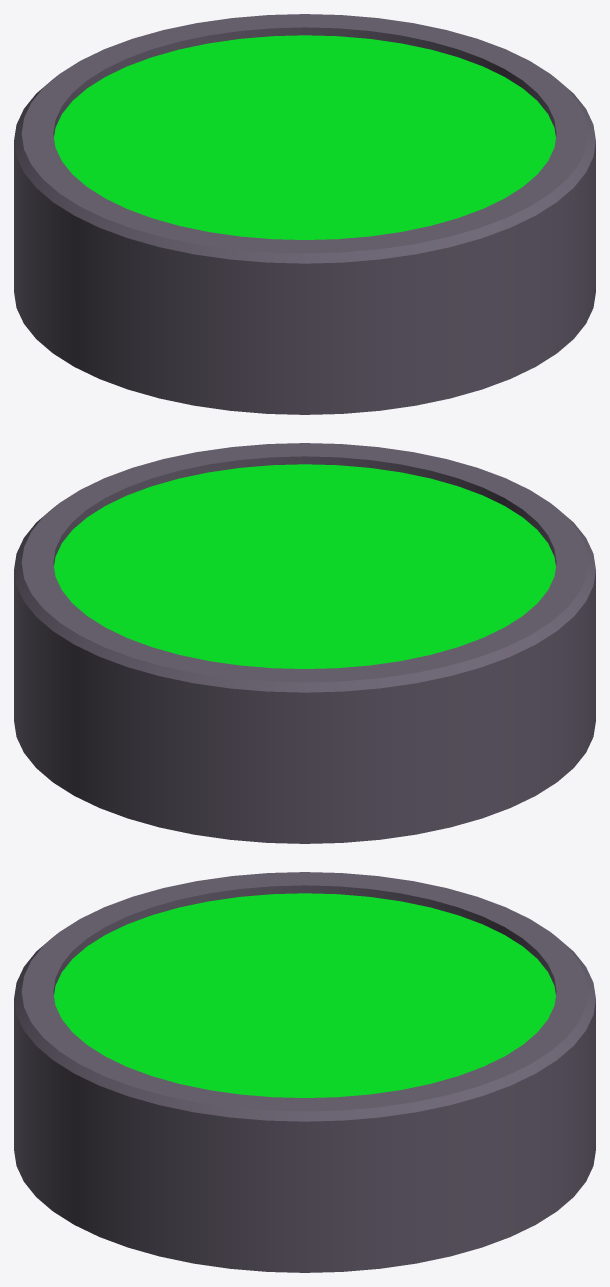
The model's file is MissionTable.gltf.
3 views of the same model, one above another, from view 1: azimuth 30°, elevation 25°; view 2: azimuth 150°, elevation 25°; view 3: azimuth 270°, elevation 25° (orthographic).
Visible parts, largest first — view 1: Cylinder.003; view 2: Cylinder.003; view 3: Cylinder.003.
Part boxes in pixels (x1,y1,x2,y2): Cylinder.003: (14,14,595,414); Cylinder.003: (14,443,595,843); Cylinder.003: (14,872,595,1272).
Bounding box in the file's own units: 2 × 0.6 × 2.
